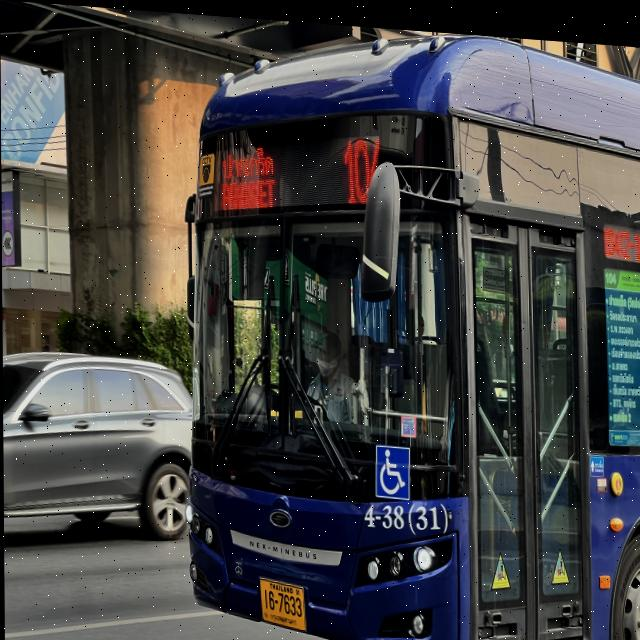Bus-Line-Number: (342, 126, 386, 201)
Destination-Sign-Normal: (215, 133, 279, 210)
TSB-Bus: (170, 10, 640, 640)
